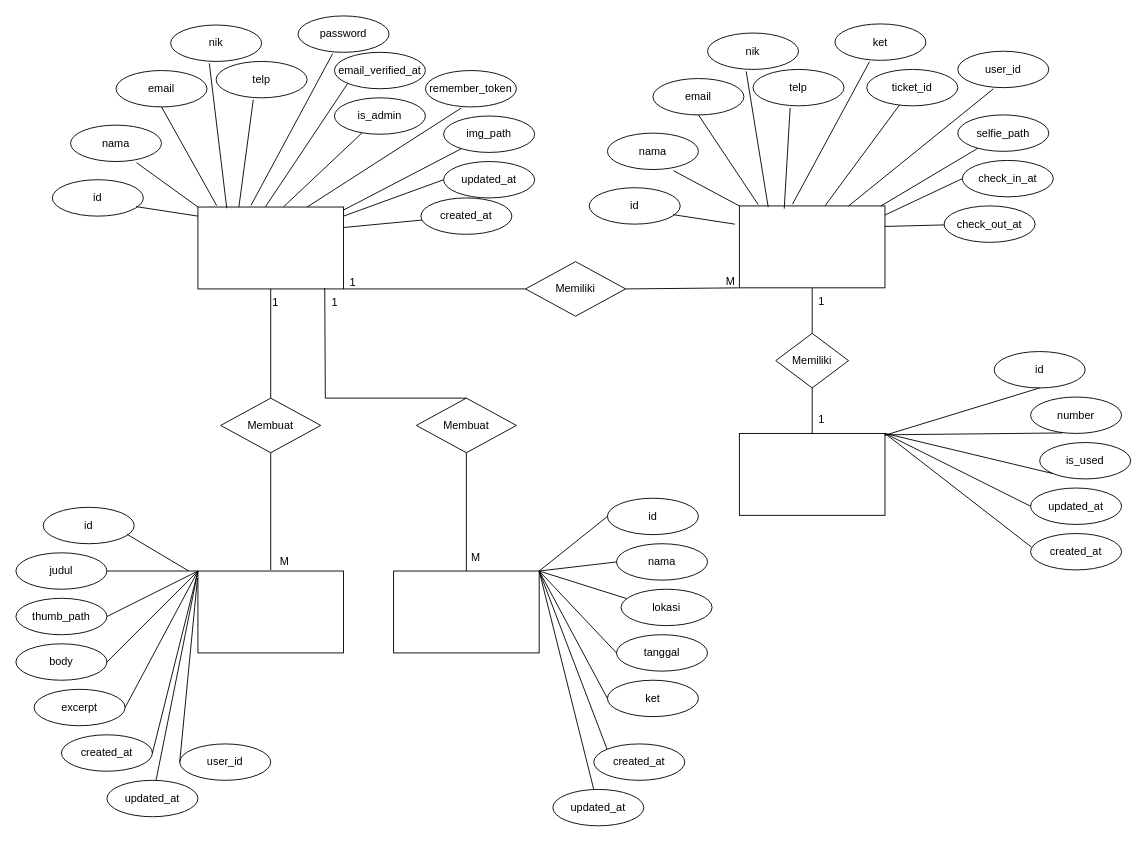
The diagram is 1147 pixels wide and 842 high, and some of its shapes have lost their labels. The centre of each missing label's shape, as x and y in pixels:
guests: (x=811, y=246)
infos: (x=466, y=611)
news: (x=270, y=611)
tickets: (x=811, y=474)
users: (x=270, y=247)
